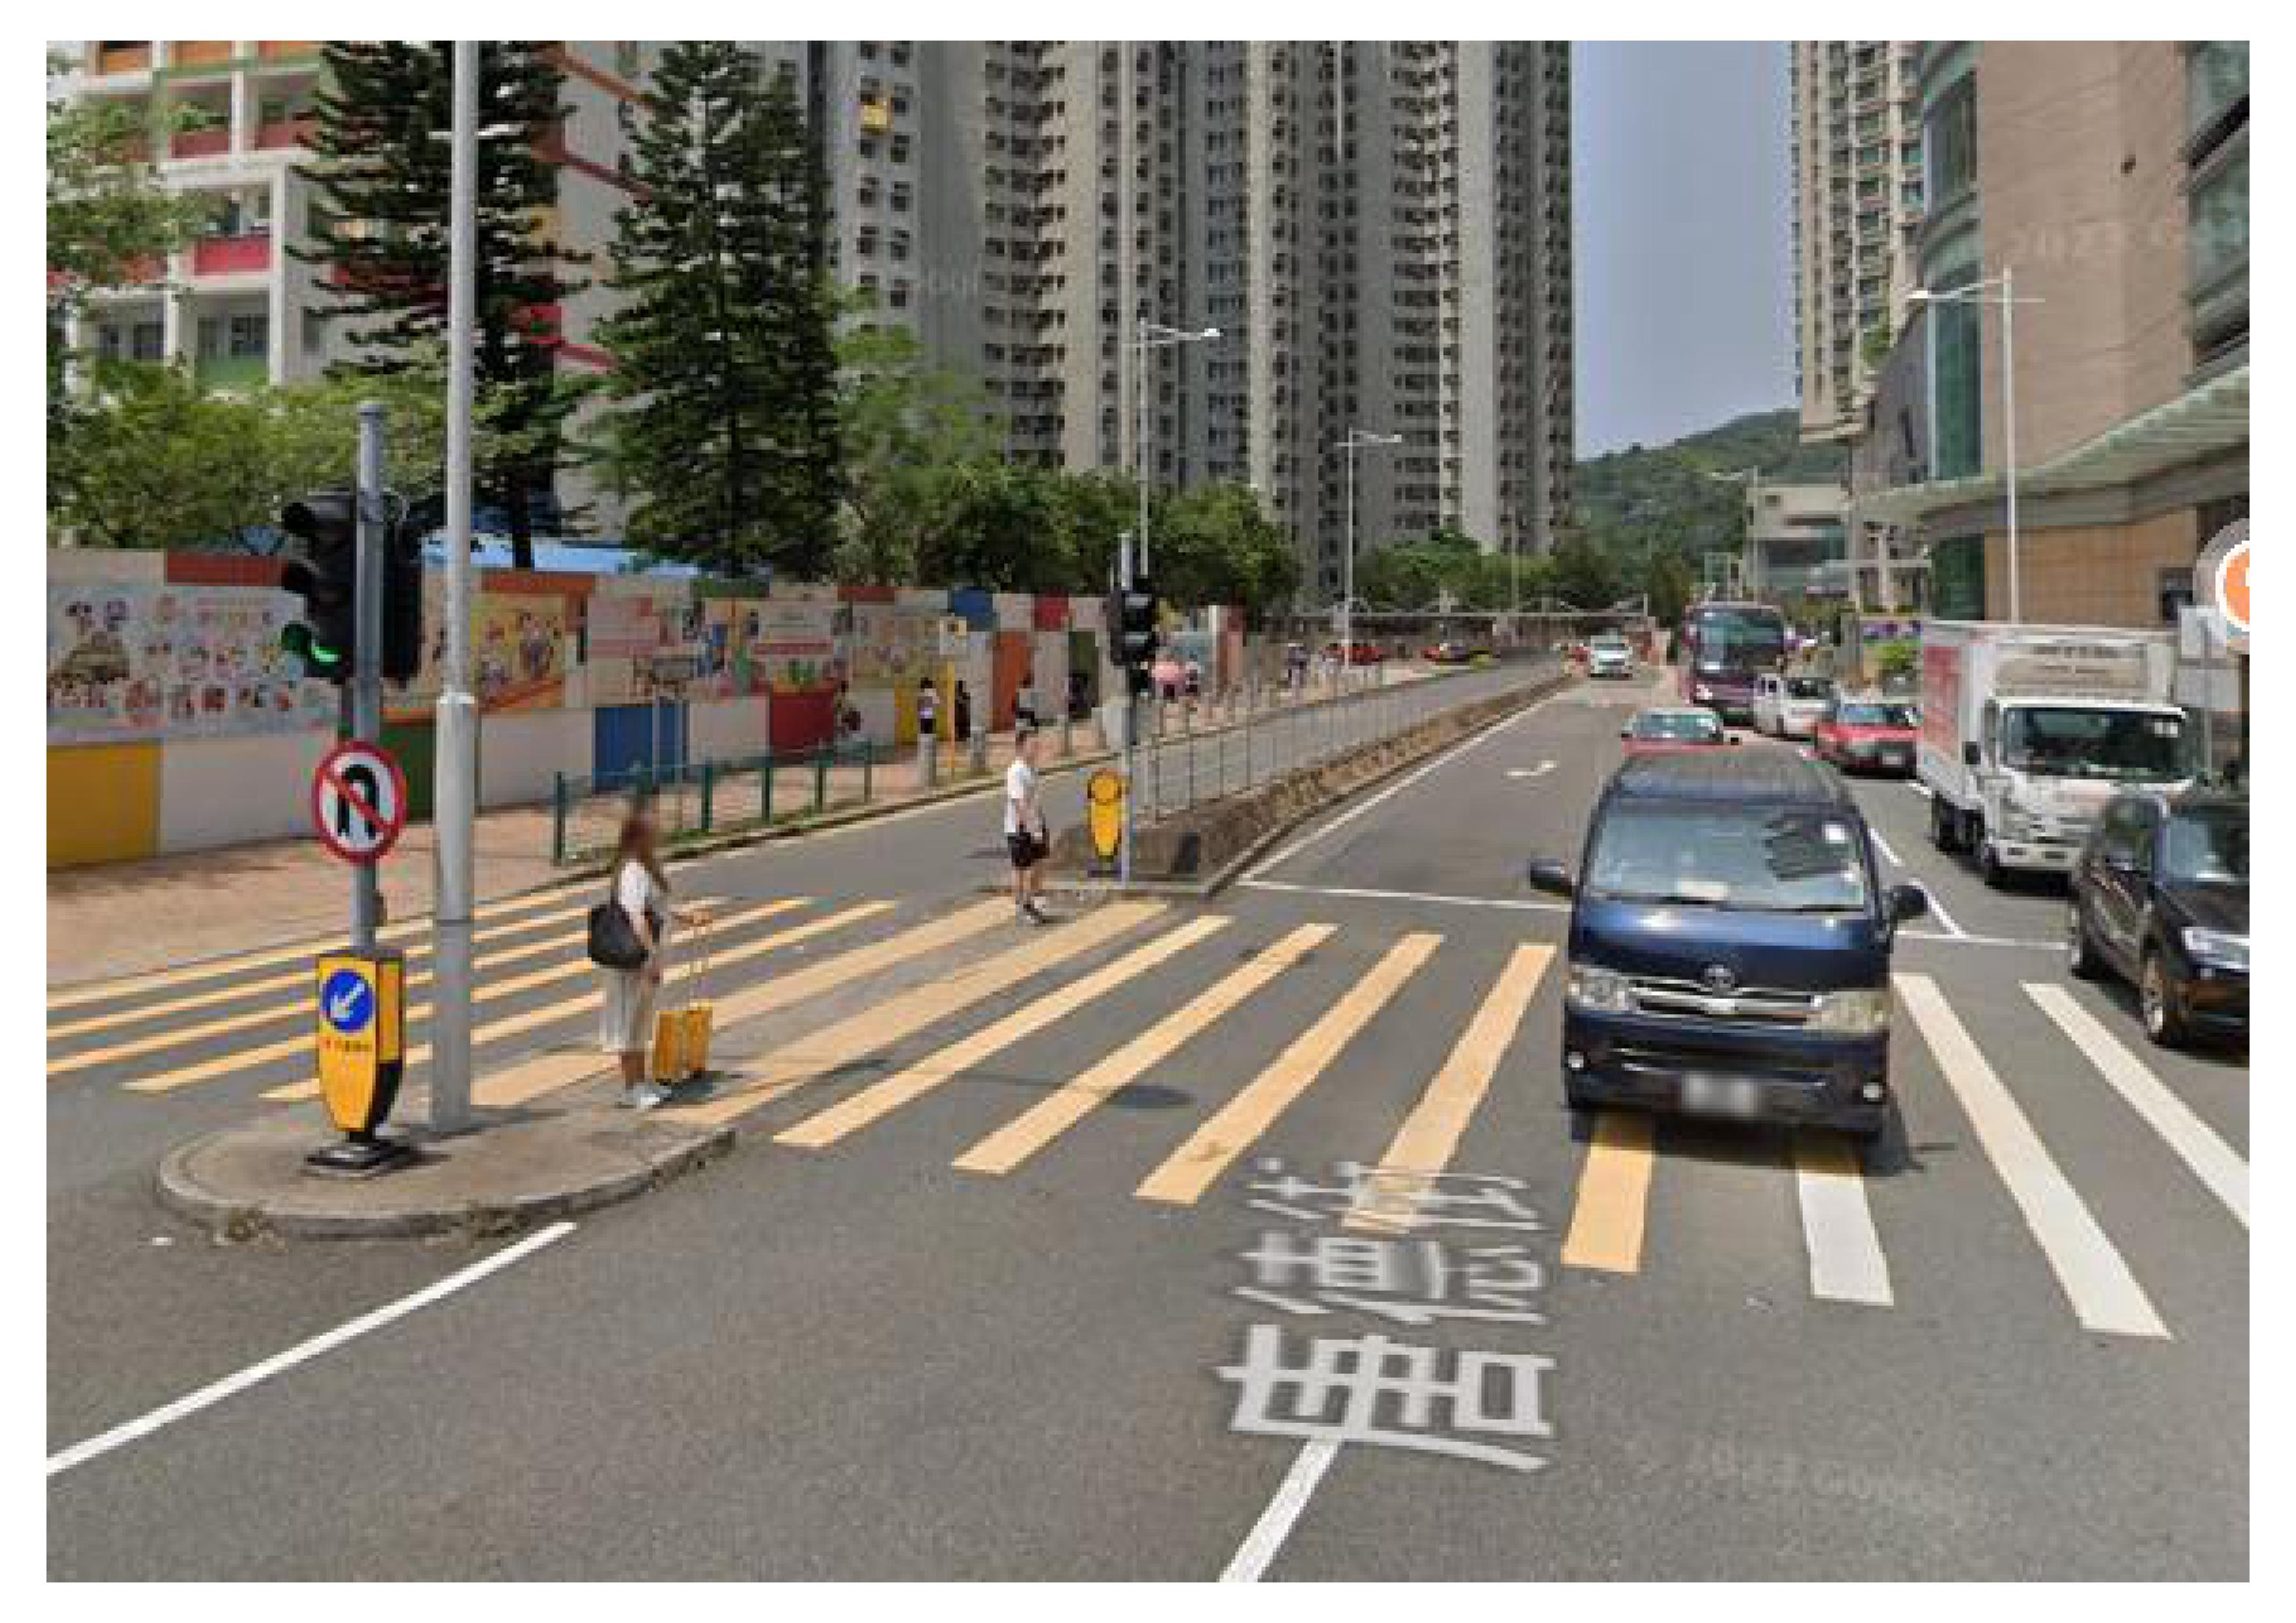No Uturn: (311, 738, 402, 859)
